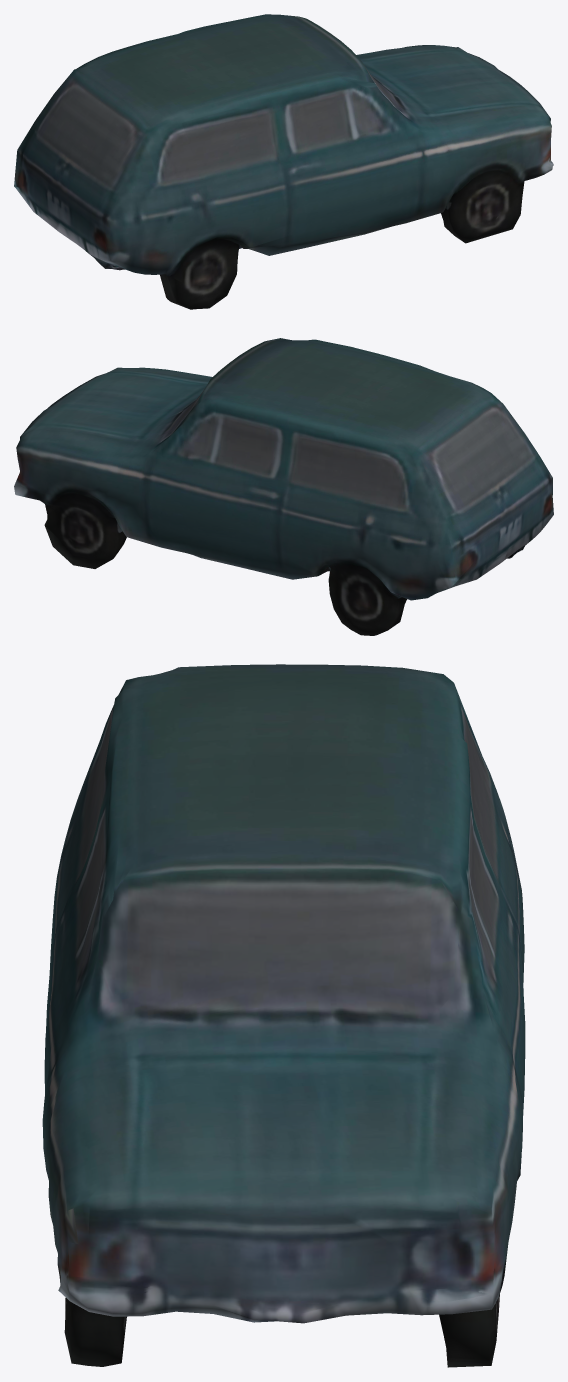
Rendered from 6fe2908d78cd_Old_Soviet_era_car_.fbx.
3 renders of one model, top to bottom at view 1: azimuth 30°, elevation 25°; view 2: azimuth 150°, elevation 25°; view 3: azimuth 270°, elevation 25°, orthographic. The views are drawn at different scales.
Parts seen in each view (by area): view 1: mesh; view 2: mesh; view 3: mesh.
Part boxes in pixels (x1=…): mesh: x1=14, y1=14, x2=553, y2=309; mesh: x1=14, y1=338, x2=553, y2=635; mesh: x1=42, y1=664, x2=525, y2=1367.
Size of the model in its own units: 3.88 by 1.78 by 1.66.
